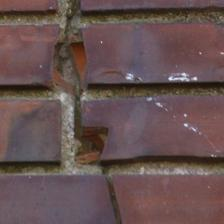Crack: (49, 5, 125, 222)
